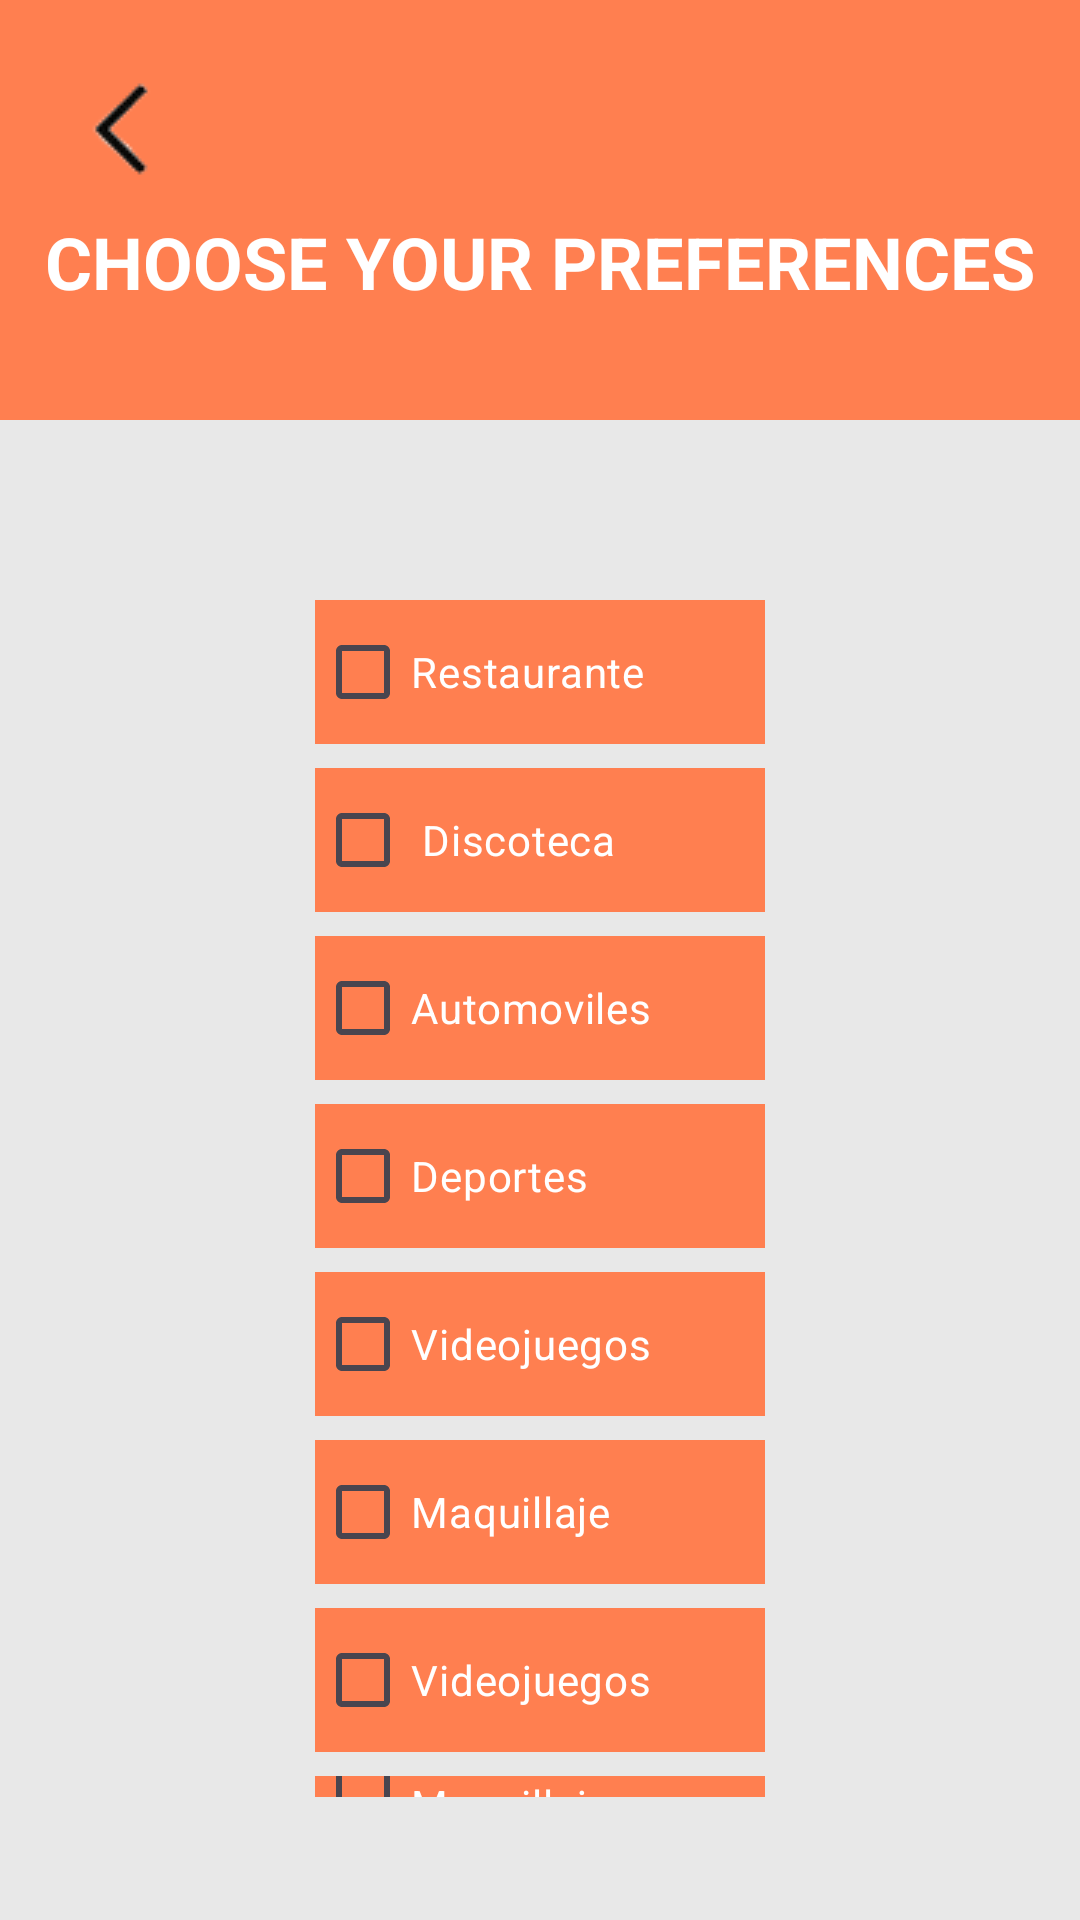

Icon click points for this 1080*1920 phone screenshot, format (x=x, y=y):
back: (x=121, y=129)
